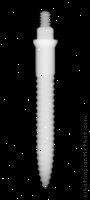Dentatus: (30, 11, 59, 190)
